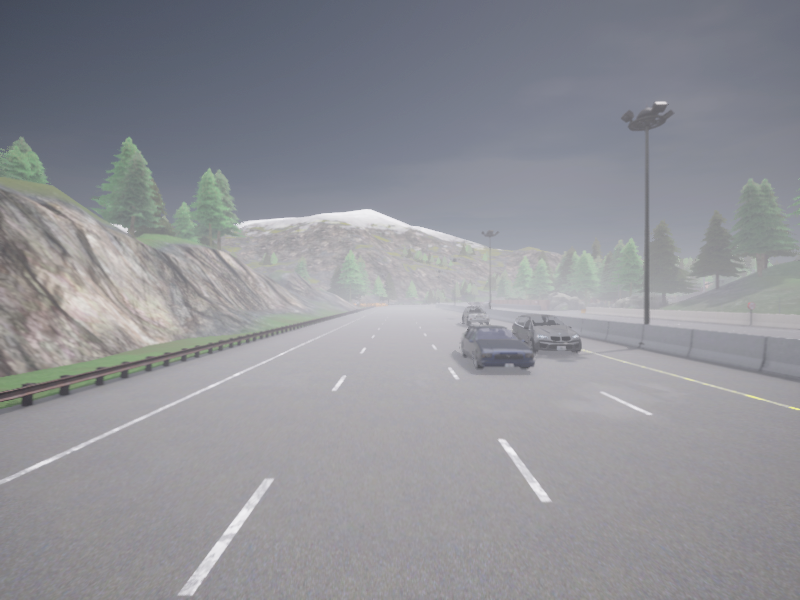vehicle: (460, 325, 535, 369), (512, 314, 581, 352), (462, 306, 489, 326), (480, 303, 488, 308), (473, 302, 479, 306), (480, 301, 484, 304), (469, 302, 474, 304)
